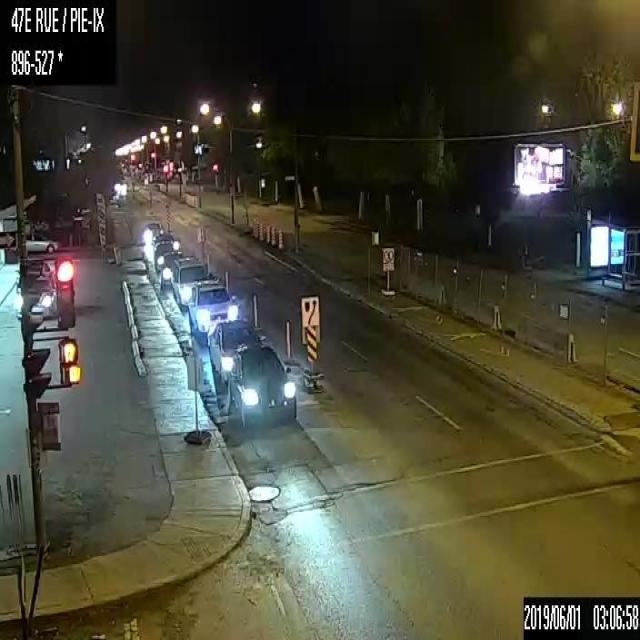construction: (285, 318, 290, 362), (252, 295, 257, 328), (270, 225, 274, 244), (266, 224, 270, 243), (258, 221, 262, 240), (278, 229, 282, 247), (206, 255, 209, 277), (224, 271, 227, 289)
vehicle: (229, 344, 299, 428), (208, 321, 262, 386), (189, 279, 240, 343), (171, 253, 215, 309), (14, 262, 56, 316), (152, 234, 182, 271), (161, 250, 189, 289), (15, 231, 60, 253), (142, 221, 163, 244)
